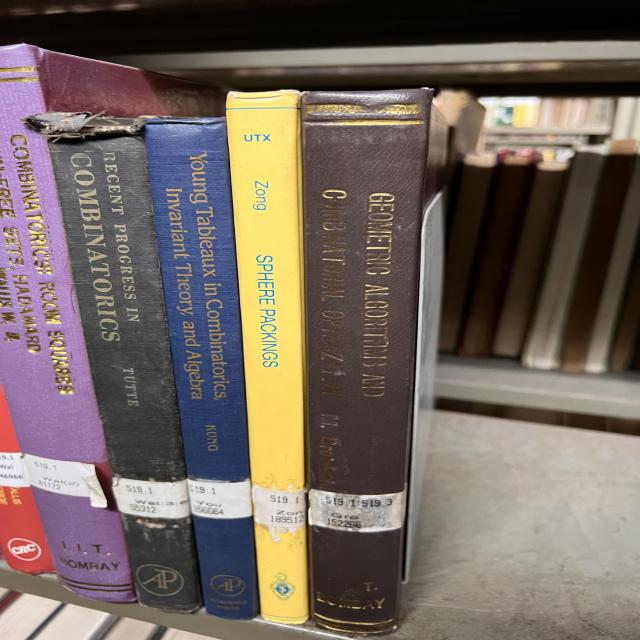Book: (0, 44, 223, 601), (300, 89, 447, 632), (52, 136, 202, 612), (145, 119, 258, 619), (227, 90, 308, 624), (0, 388, 53, 574)
Label: (22, 454, 107, 508), (308, 489, 407, 532), (112, 476, 190, 519), (252, 485, 307, 535), (187, 479, 253, 519), (0, 452, 30, 488)
